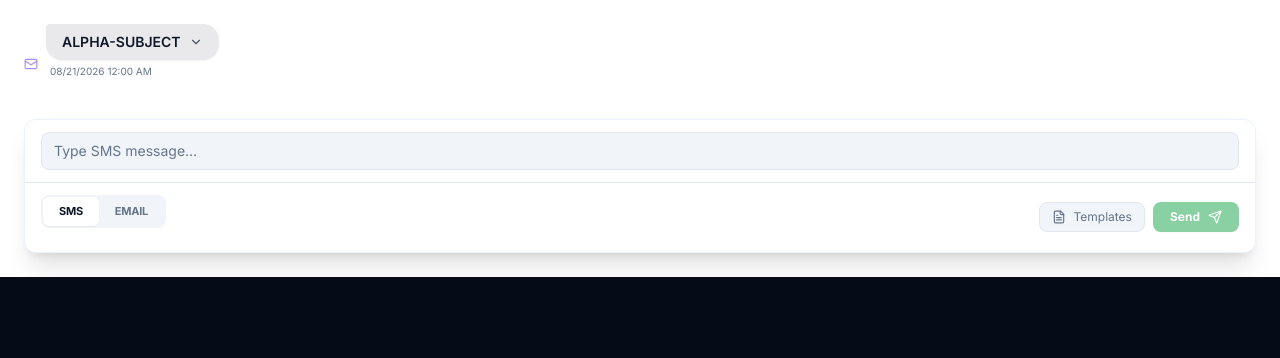
Test: contact-specific composer state never crosses contacts › expanding still works for the contact that is open
Expected: the text "ALPHA-SUBJECT" is shown, [62,32,181,52]
Expected: the text "ALPHA-EMAIL-BODY" is not shown
Click the button "ALPHA-SUBJECT": (132, 42) [46,24,219,60]
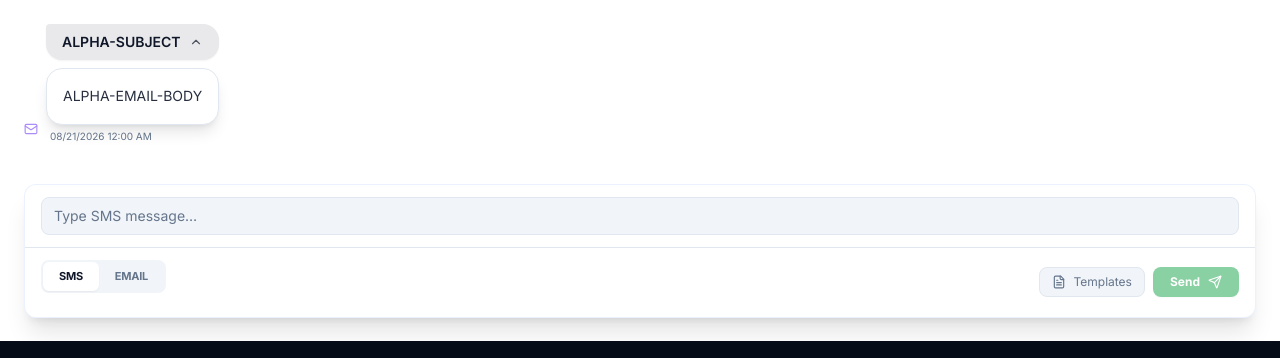
Expected: the text "ALPHA-EMAIL-BODY" is shown, [63,85,202,108]
Click the button "ALPHA-SUBJECT": (133, 42) [46,24,219,60]
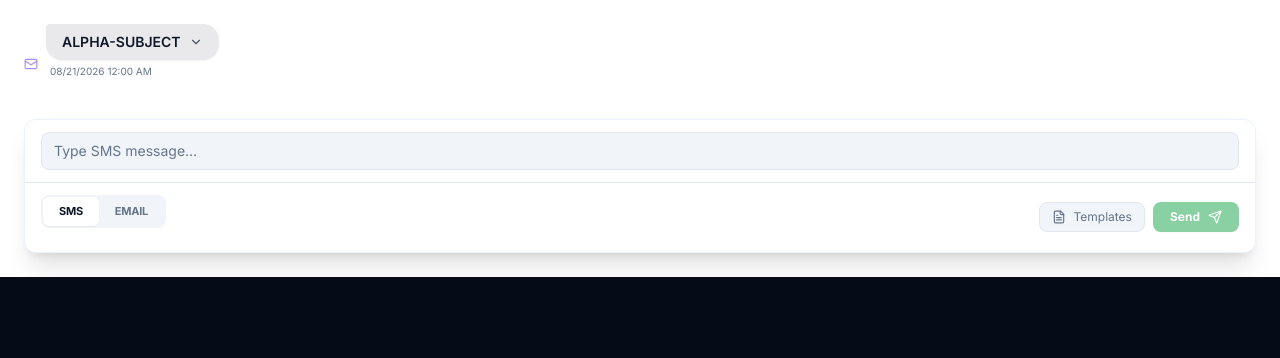
Expected: the text "ALPHA-EMAIL-BODY" is gone
